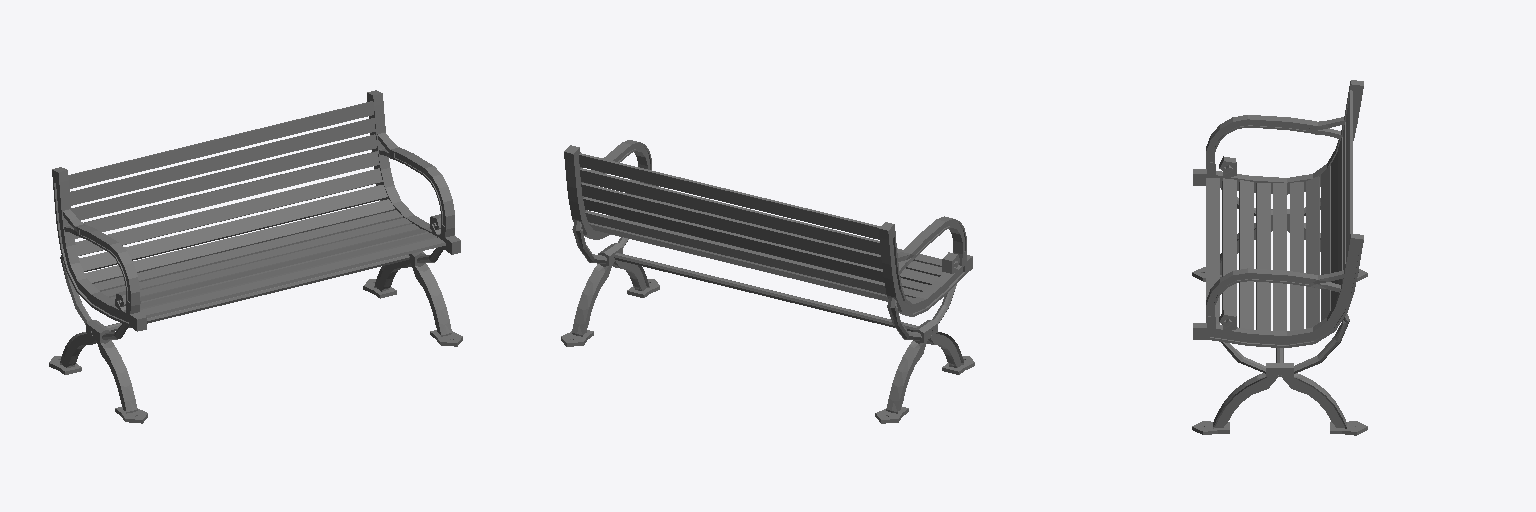
Rendered from Bench_LowRes.obj.
3 views of the same model, side by side, from view 1: azimuth 30°, elevation 25°; view 2: azimuth 150°, elevation 25°; view 3: azimuth 270°, elevation 25° (orthographic).
Parts seen in each view (by area): view 1: LoD_1; view 2: LoD_1; view 3: LoD_1.
Part boxes in pixels (bbox=[...]): LoD_1: bbox=[49, 90, 462, 423]; LoD_1: bbox=[561, 140, 974, 423]; LoD_1: bbox=[1192, 80, 1367, 435].
Size of the model in its own units: 176 by 96.85 by 79.41.